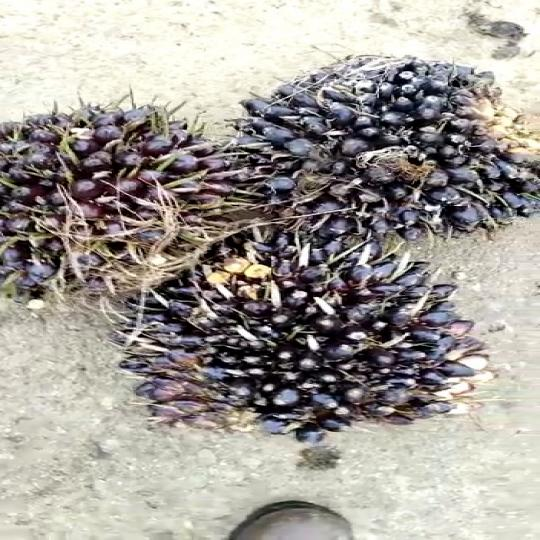mentah: (146, 231, 498, 444), (216, 53, 540, 248), (0, 93, 258, 303)
